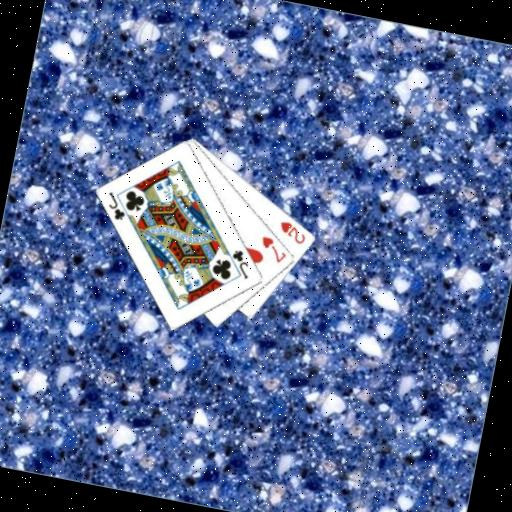2H: (274, 217, 310, 247)
7H: (255, 232, 291, 265)
JC: (226, 246, 256, 282), (101, 188, 131, 224)
